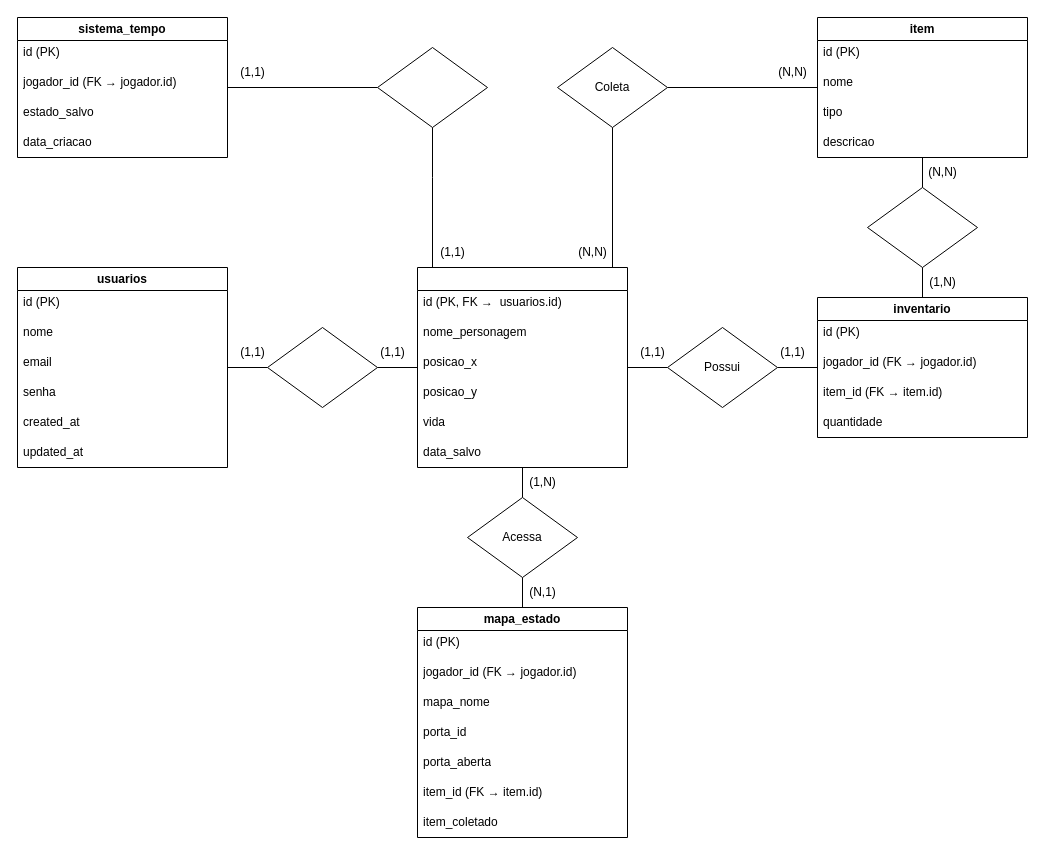
The diagram is 1045 pixels wide and 855 high, and some of its shapes have lost their labels. Here are the shapes that lost their labels. From the top down, the box of each, then its label:
(376, 46, 488, 128): Manipula
(866, 186, 978, 268): Armazena
(266, 326, 378, 408): Representa
(416, 266, 628, 468): jogador
